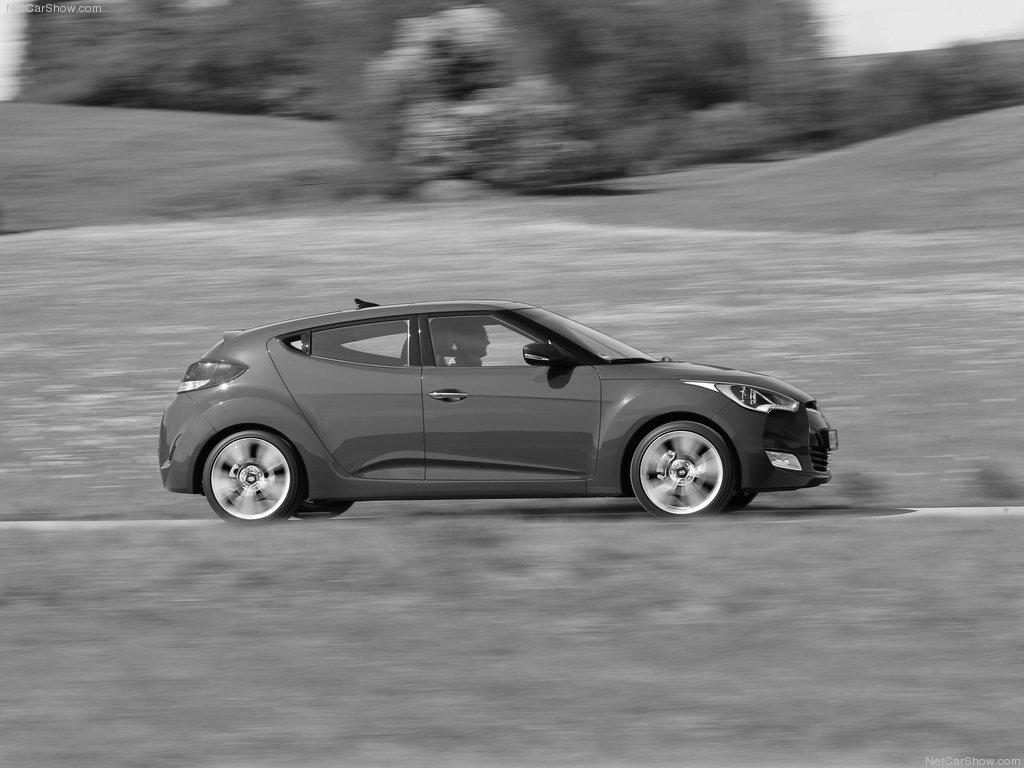car: (157, 291, 848, 525)
